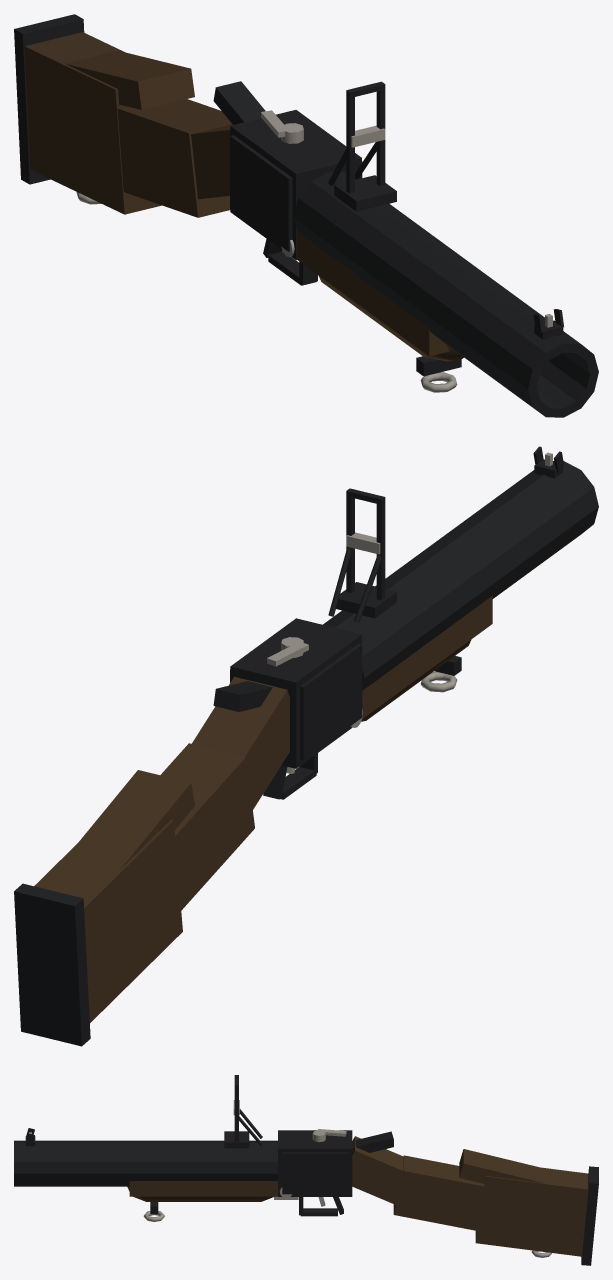
File: m79-thumper-40mm-grenade.glb
3 renders of one model, top to bottom at view 1: azimuth 30°, elevation 25°; view 2: azimuth 150°, elevation 25°; view 3: azimuth 270°, elevation 25°, orthographic. The views are drawn at different scales.
Parts seen in each view (by area): view 1: Mesh_Mesh_Barrel, Mesh_StockMain, Mesh_StockWrist, Mesh_ReceiverBlock, Mesh_ReceiverSideL, Mesh_StockComb, Mesh_ForeEndWood, Mesh_Buttplate, Mesh_StockGrip, Mesh_TopTang, Mesh_SightBase, Mesh_SightRailL (+6 smaller); view 2: Mesh_Mesh_Barrel, Mesh_StockMain, Mesh_Buttplate, Mesh_StockWrist, Mesh_StockComb, Mesh_ReceiverBlock, Mesh_StockGrip, Mesh_ReceiverSideL, Mesh_ForeEndWood, Mesh_TopTang, Mesh_SightBase, Mesh_SightRailL; view 3: Mesh_Mesh_Barrel, Mesh_StockMain, Mesh_StockWrist, Mesh_ReceiverSideR, Mesh_ForeEndWood, Mesh_StockGrip, Mesh_ReceiverBlock, Mesh_StockComb, Mesh_Buttplate, Mesh_ForeEndCapsule, Mesh_TopTang, Mesh_SightBase (+2 smaller).
Boxes of the visible parts, left/top/right/bottom form: Mesh_Mesh_Barrel: left=293, top=172, right=598, bottom=417; Mesh_StockMain: left=24, top=32, right=161, bottom=214; Mesh_StockWrist: left=117, top=99, right=232, bottom=217; Mesh_ReceiverBlock: left=230, top=110, right=361, bottom=260; Mesh_ReceiverSideL: left=230, top=135, right=292, bottom=251; Mesh_StockComb: left=65, top=50, right=194, bottom=109; Mesh_ForeEndWood: left=297, top=232, right=449, bottom=356; Mesh_Buttplate: left=14, top=14, right=84, bottom=184; Mesh_StockGrip: left=191, top=124, right=232, bottom=199; Mesh_TopTang: left=213, top=81, right=265, bottom=124; Mesh_SightBase: left=334, top=175, right=396, bottom=211; Mesh_SightRailL: left=346, top=93, right=354, bottom=193; Mesh_Mesh_Barrel: left=323, top=461, right=598, bottom=690; Mesh_StockMain: left=34, top=819, right=182, bottom=1022; Mesh_Buttplate: left=14, top=883, right=90, bottom=1046; Mesh_StockWrist: left=160, top=743, right=254, bottom=910; Mesh_StockComb: left=65, top=770, right=194, bottom=871; Mesh_ReceiverBlock: left=230, top=618, right=361, bottom=768; Mesh_StockGrip: left=192, top=676, right=289, bottom=809; Mesh_ReceiverSideL: left=300, top=643, right=362, bottom=760; Mesh_ForeEndWood: left=362, top=596, right=492, bottom=719; Mesh_TopTang: left=213, top=680, right=275, bottom=711; Mesh_SightBase: left=336, top=582, right=396, bottom=618; Mesh_SightRailL: left=376, top=500, right=385, bottom=600; Mesh_Mesh_Barrel: left=14, top=1140, right=277, bottom=1186; Mesh_StockMain: left=475, top=1167, right=588, bottom=1256; Mesh_StockWrist: left=393, top=1155, right=484, bottom=1230; Mesh_ReceiverSideR: left=282, top=1152, right=348, bottom=1194; Mesh_ForeEndWood: left=129, top=1181, right=277, bottom=1196; Mesh_StockGrip: left=352, top=1136, right=403, bottom=1204; Mesh_ReceiverBlock: left=278, top=1130, right=352, bottom=1196; Mesh_StockComb: left=459, top=1149, right=545, bottom=1183; Mesh_Buttplate: left=581, top=1166, right=598, bottom=1265; Mesh_ForeEndCapsule: left=127, top=1186, right=274, bottom=1201; Mesh_TopTang: left=352, top=1131, right=393, bottom=1152; Mesh_SightBase: left=224, top=1131, right=249, bottom=1148.
Bounding box in the file's own units: 0.058 × 0.2373 × 0.7088.
